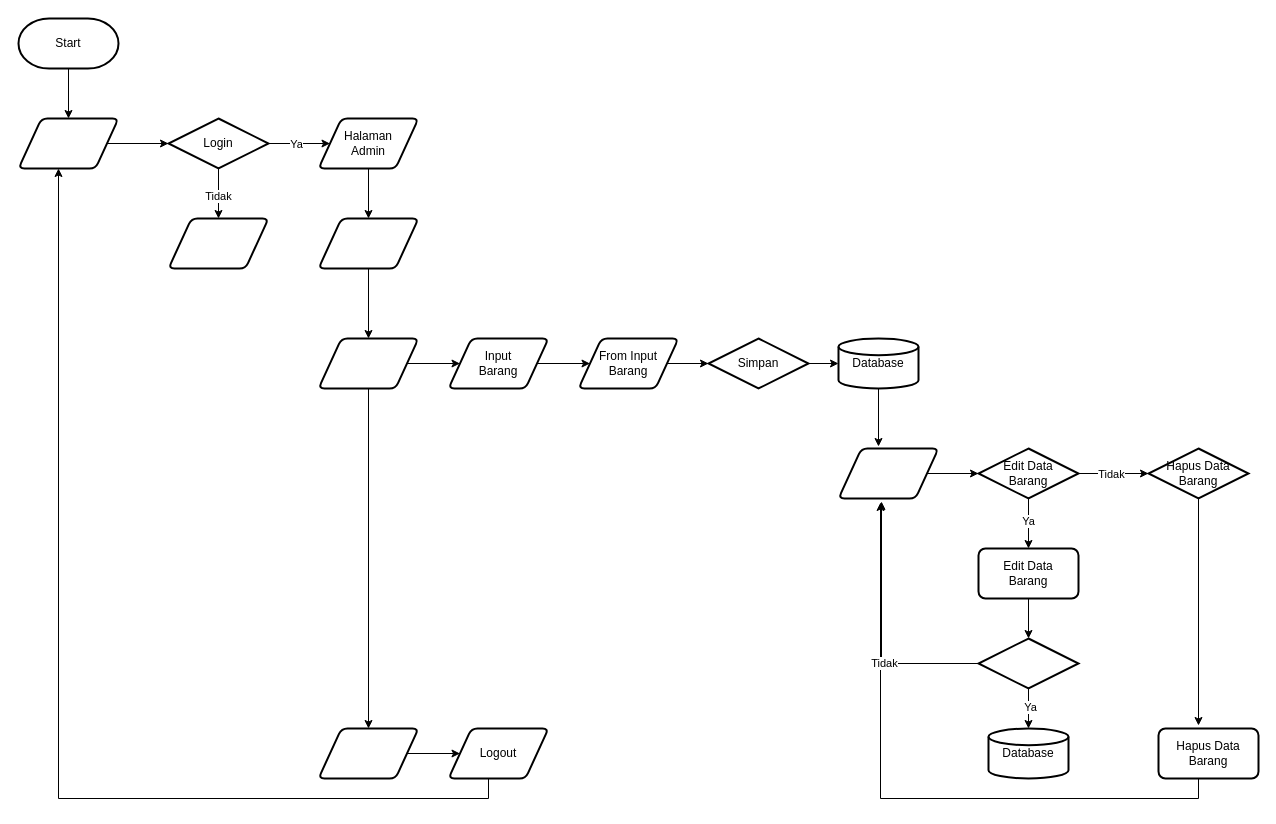
This 1276x824 diagram has some shape labels left out. The shapes that lost their labels are listed below. From the top down, each one's centre as x and y in pixels, then its label:
[68,143]: Index
[218,243]: Tampil pesan gagal
[368,243]: Jenis Barang
[368,363]: Barang
[888,473]: Tampil Data Barang
[1028,663]: Update
[368,753]: Akun
